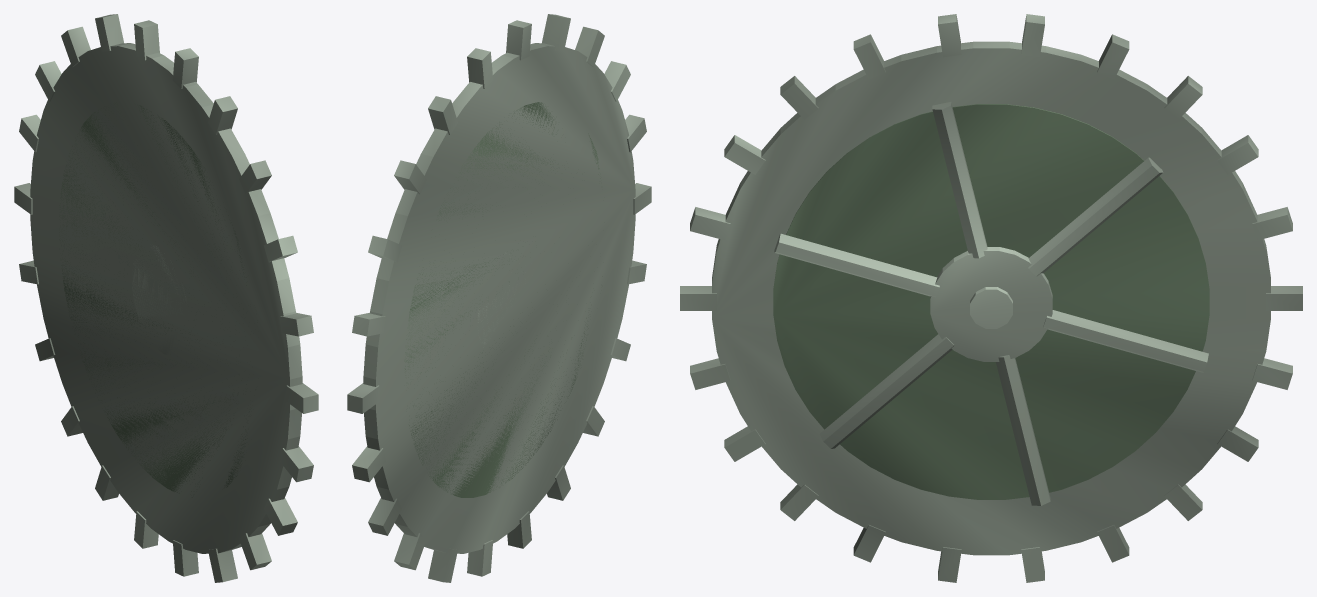
File: SM_TowerGear_A5.fbx
3 renders of one model, left to right at view 1: azimuth 30°, elevation 25°; view 2: azimuth 150°, elevation 25°; view 3: azimuth 270°, elevation 25°, orthographic. The views are drawn at different scales.
Visible parts, largest first — view 1: SM_TowerGear_A5; view 2: SM_TowerGear_A5; view 3: SM_TowerGear_A5.
Boxes of the visible parts, box(x1,y1,x2,y2) form: SM_TowerGear_A5: box(14, 14, 318, 582); SM_TowerGear_A5: box(347, 14, 651, 582); SM_TowerGear_A5: box(680, 14, 1302, 582).
Bounding box in the file's own units: 31.49 × 557 × 560.
